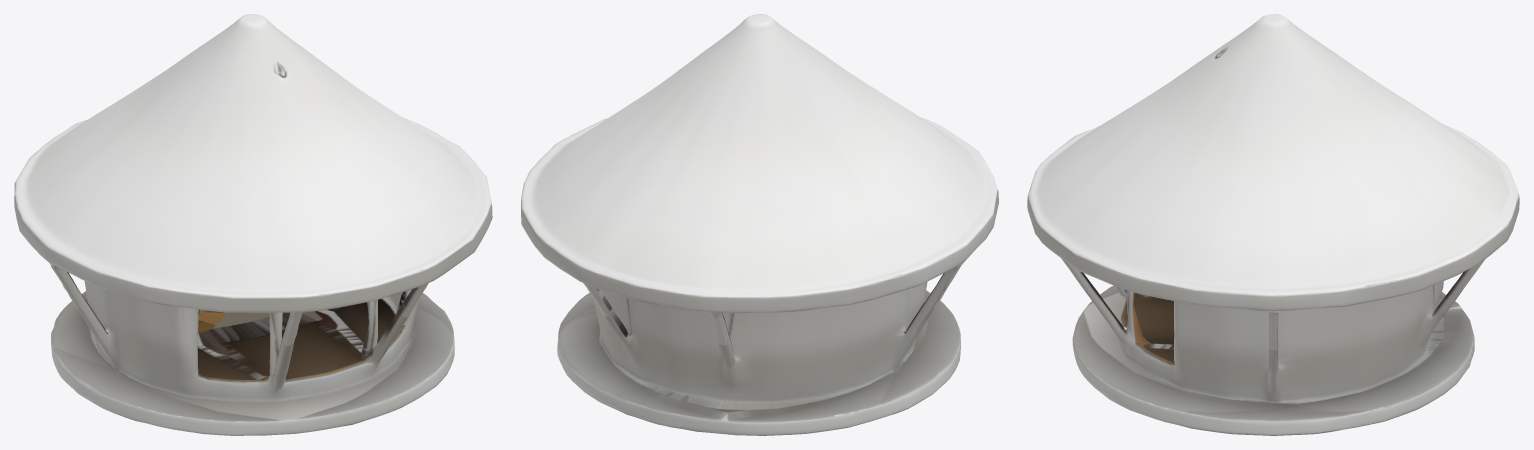
Rendered from base_basic_shaded.glb.
3 views of the same model, side by side, from view 1: azimuth 30°, elevation 25°; view 2: azimuth 150°, elevation 25°; view 3: azimuth 270°, elevation 25° (orthographic).
Parts seen in each view (by area): view 1: model; view 2: model; view 3: model.
Boxes of the visible parts, x1,y1,x2,y2 form: model: (14, 14, 492, 435); model: (521, 14, 998, 435); model: (1027, 14, 1519, 435).
Size of the model in its own units: 6.47 by 5 by 6.69.
1 material, 1 textured.
